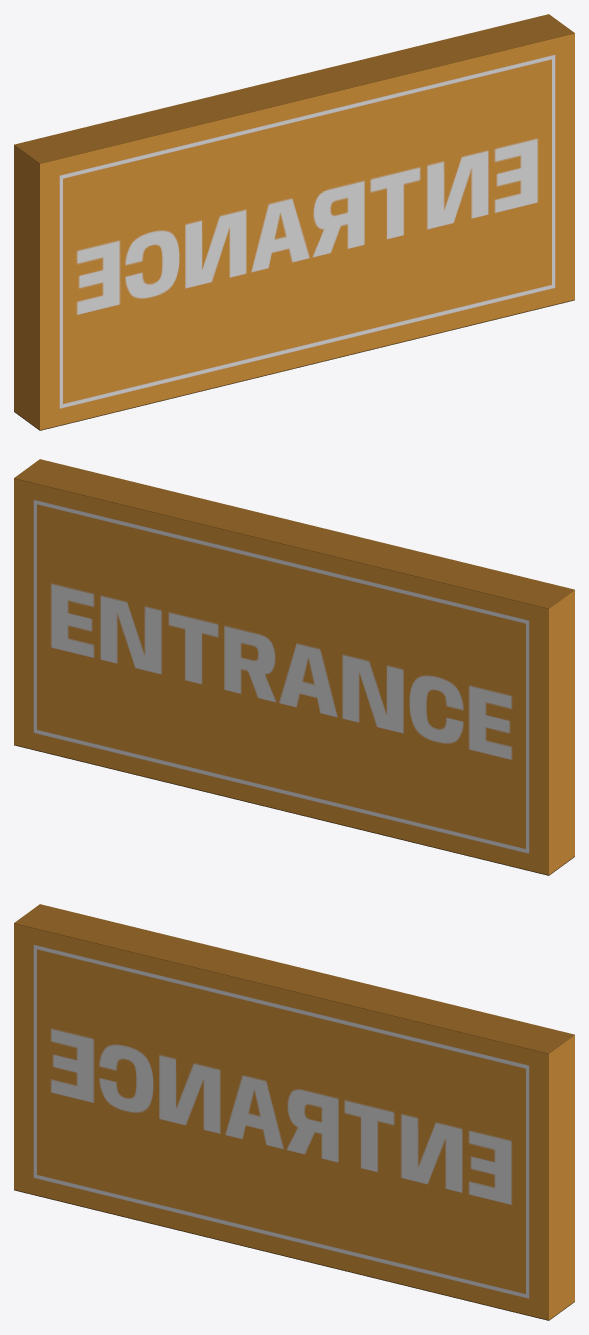
File: Entrance_Sign.glb
3 views of the same model, one above another, from view 1: azimuth 30°, elevation 25°; view 2: azimuth 150°, elevation 25°; view 3: azimuth 330°, elevation 25° (orthographic).
Visible parts, largest first — view 1: Entery; view 2: Entery; view 3: Entery.
Boxes of the visible parts, left/top/right/bottom form: Entery: left=14, top=14, right=574, bottom=430; Entery: left=14, top=459, right=574, bottom=875; Entery: left=14, top=904, right=574, bottom=1320.
Bounding box in the file's own units: 0.4753 × 0.2269 × 0.04.
1 material, 1 textured.
